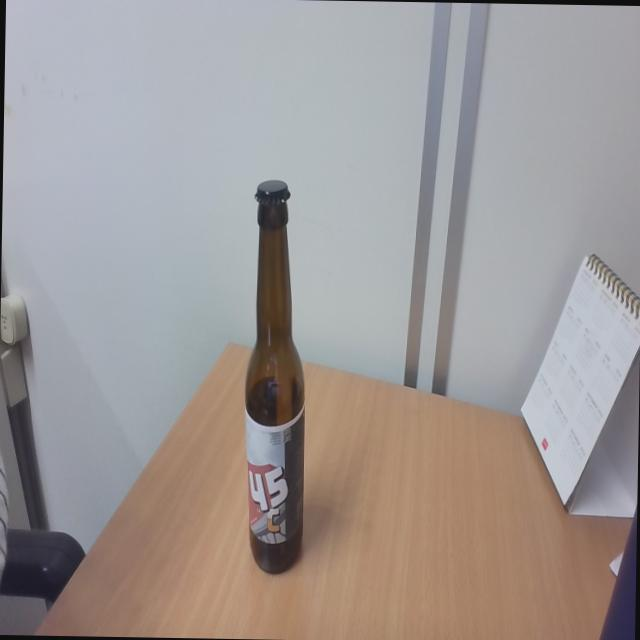Bottle: (241, 178, 313, 575)
Cap: (250, 180, 292, 207)
Label: (242, 416, 304, 543)
